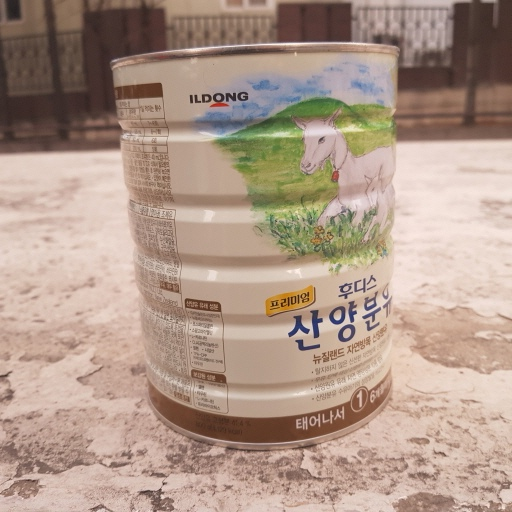Metal_1: (107, 38, 399, 451)
